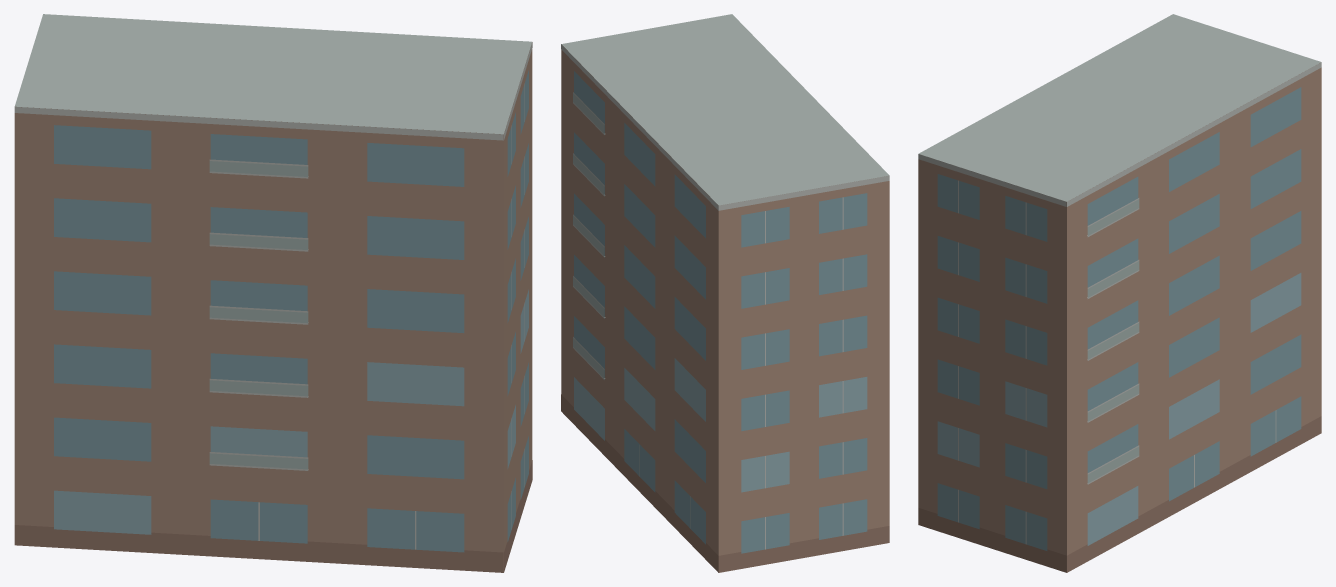
The model's file is survey-upis-32637499.glb.
3 views of the same model, side by side, from view 1: azimuth 30°, elevation 25°; view 2: azimuth 150°, elevation 25°; view 3: azimuth 270°, elevation 25° (orthographic). The views are drawn at different scales.
Visible parts, largest first — view 1: survey-upis-32637499.tmp; view 2: survey-upis-32637499.tmp; view 3: survey-upis-32637499.tmp.
Boxes of the visible parts, x1,y1,x2,y2 form: survey-upis-32637499.tmp: (14,14,532,572); survey-upis-32637499.tmp: (561,14,889,572); survey-upis-32637499.tmp: (918,14,1321,572).
Bounding box in the file's own units: 18.57 × 17.1 × 16.86.
